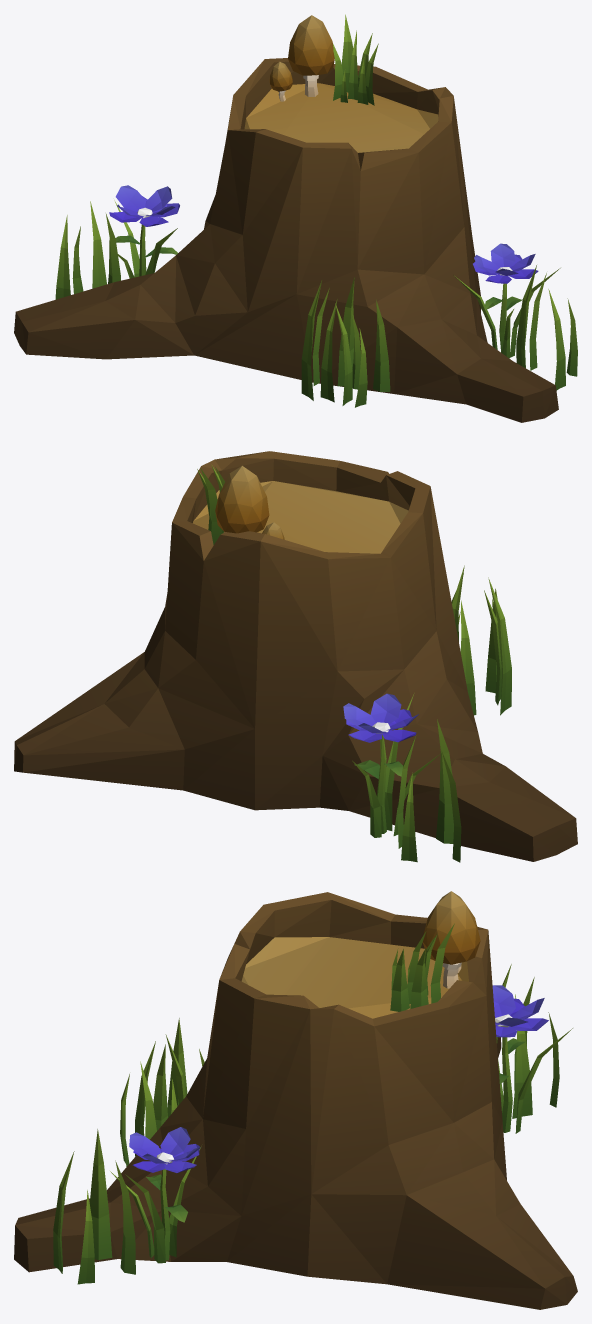
The model's file is Stump_04.fbx.
3 views of the same model, one above another, from view 1: azimuth 30°, elevation 25°; view 2: azimuth 150°, elevation 25°; view 3: azimuth 270°, elevation 25° (orthographic). The views are drawn at different scales.
Visible parts, largest first — view 1: Stump_04; view 2: Stump_04; view 3: Stump_04.
Boxes of the visible parts, left/top/right/bottom form: Stump_04: left=14, top=14, right=577, bottom=422; Stump_04: left=14, top=451, right=577, bottom=862; Stump_04: left=14, top=891, right=577, bottom=1309.
Bounding box in the file's own units: 1.5 × 0.8956 × 1.35.
